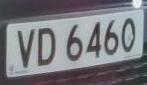0: (121, 15, 138, 58)
4: (85, 17, 104, 67)
6: (64, 19, 86, 68), (103, 16, 122, 62)
D: (36, 23, 60, 71)
V: (15, 26, 36, 71)
